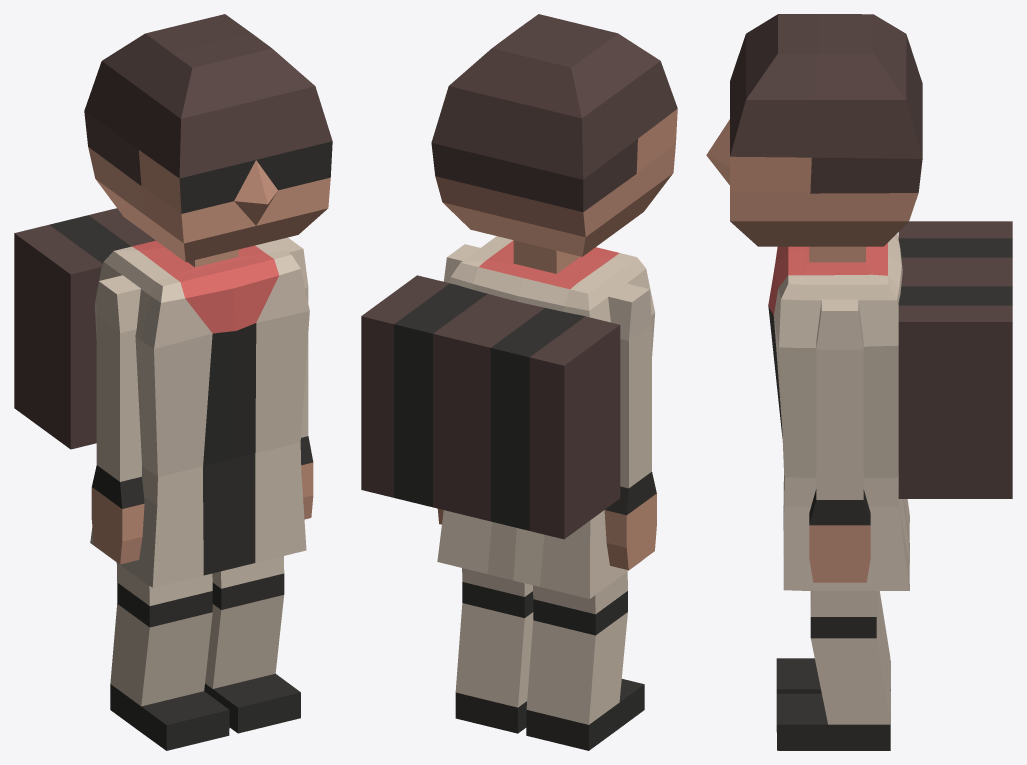
Rendered from MedicEngineer.fbx.
3 views of the same model, side by side, from view 1: azimuth 30°, elevation 25°; view 2: azimuth 150°, elevation 25°; view 3: azimuth 270°, elevation 25° (orthographic).
Visible parts, largest first — view 1: Engineer_medic, AidKit, R_leg.013, Arm_L.011, R_leg.012, Arm_L.010; view 2: Engineer_medic, AidKit, R_leg.013, R_leg.012, Arm_L.011, Arm_L.010; view 3: Engineer_medic, AidKit, Arm_L.010, R_leg.012, R_leg.013.
Boxes of the visible parts, <box> form: Engineer_medic: <box>84,14,332,587</box>; AidKit: <box>14,208,155,449</box>; R_leg.013: <box>110,562,229,750</box>; Arm_L.011: <box>91,275,144,564</box>; R_leg.012: <box>204,556,300,733</box>; Arm_L.010: <box>272,237,313,519</box>; Engineer_medic: <box>431,14,677,598</box>; AidKit: <box>361,275,620,539</box>; R_leg.013: <box>526,572,644,750</box>; R_leg.012: <box>455,568,533,733</box>; Arm_L.011: <box>604,283,656,570</box>; Arm_L.010: <box>437,244,479,524</box>; Engineer_medic: <box>706,14,922,590</box>; AidKit: <box>898,221,1012,498</box>; Arm_L.010: <box>809,299,870,582</box>; R_leg.012: <box>776,591,890,750</box>; R_leg.013: <box>776,591,890,694</box>.
Size of the model in its own units: 245 by 773 by 314.
1 material, 1 textured.
